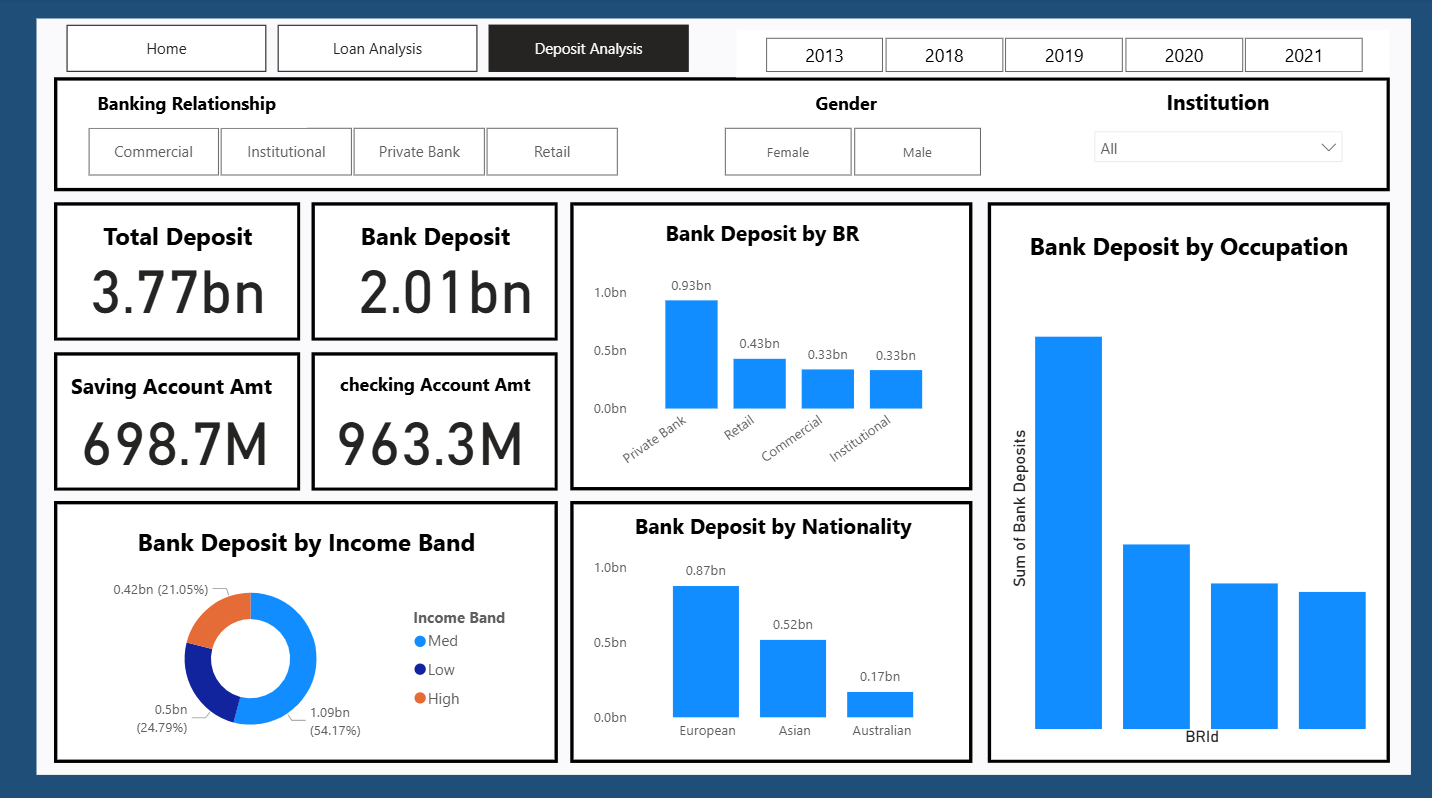

This screenshot's page, from the dashboard's own definition file:
{"tool":"powerbi","page":{"name":"Deposit Analysis","canvas":[1280,720],"ordinal":2},"visuals":[{"type":"shape","box":[32.9,20.6,1224,673.8],"z":0},{"type":"shape","box":[49.4,72.7,1189.7,101.5],"z":1000},{"type":"shape","box":[509.1,450.1,358.1,233.3],"z":2000},{"type":"shape","title":"Total Clients","box":[49.4,317,219.6,123.5],"z":3000},{"type":"shape","title":"Total Clients","box":[49.4,183.9,219.6,123.5],"z":4000},{"type":"shape","title":"Total Clients","box":[278.6,183.9,219.6,123.5],"z":5000},{"type":"shape","title":"Total Clients","box":[278.6,317,219.6,123.5],"z":6000},{"type":"shape","box":[509.1,183.9,358.1,256.6],"z":7000},{"type":"shape","box":[49.4,450.1,448.7,233.3],"z":8000},{"type":"shape","box":[881,183.9,358.1,499.5],"z":9000},{"type":"textbox","box":[64.5,193.5,189.4,42.5],"z":10000},{"type":"textbox","box":[293.7,329.3,189.4,42.5],"z":11000},{"type":"textbox","box":[293.7,193.5,189.4,42.5],"z":12000},{"type":"textbox","box":[118,466.6,311.5,42.5],"z":13000},{"type":"textbox","box":[575,193.5,208.6,52.1],"z":14000},{"type":"textbox","box":[525.6,454.2,328,42.5],"z":15000},{"type":"textbox","box":[904.3,203.1,311.5,42.5],"z":16000},{"type":"textbox","box":[53.5,329.3,200.3,42.5],"z":17000},{"type":"slicer","fields":{"Values":["banking_details.Year of Joining"]},"box":[657.3,30.2,581.8,42.5],"z":18000},{"type":"card","fields":{"Values":["banking_details.Total Deposit"]},"box":[74.1,236,170.2,61.7],"z":19000},{"type":"card","fields":{"Values":["Sum(banking_details.Checking Accounts)"]},"box":[293.7,371.9,179.8,61.7],"z":20000},{"type":"card","fields":{"Values":["Sum(banking_details.Saving Accounts)"]},"box":[60.4,371.9,193.5,61.7],"z":21000},{"type":"card","fields":{"Values":["Sum(banking_details.Bank Deposits)"]},"box":[312.9,236,170.2,61.7],"z":22000},{"type":"donutChart","fields":{"Category":["banking_details.Income Band"],"Y":["Sum(banking_details.Bank Deposits)"]},"box":[74.1,509.1,399.3,163.3],"z":23000},{"type":"columnChart","fields":{"Category":["banking_details.BRId"],"Y":["Sum(banking_details.Bank Deposits)"]},"box":[524.2,236,329.3,197.6],"z":24000},{"type":"columnChart","fields":{"Category":["banking_details.Nationality"],"Y":["Sum(banking_details.Bank Deposits)"]},"box":[524.2,488.5,329.3,183.9],"z":25000},{"type":"clusteredColumnChart","fields":{"Y":["Sum(banking_details.Bank Deposits)"],"Category":["banking_details.BRId"]},"box":[896.1,245.6,329.3,426.8],"z":26000},{"type":"slicer","fields":{"Values":["banking_details.BRId"]},"box":[53.5,109.8,521.4,56.3],"z":27000},{"type":"slicer","fields":{"Values":["banking_details.GenderId"]},"box":[620.2,109.8,278.6,56.3],"z":28000},{"type":"slicer","fields":{"Values":["banking_details.IAId"]},"box":[964.7,109.8,241.5,56.3],"z":29000},{"type":"textbox","box":[60.4,79.6,214.1,38.4],"z":30000},{"type":"textbox","box":[655.9,79.6,197.6,31.6],"z":31000},{"type":"textbox","box":[978.4,76.8,214.1,42.5],"z":32000},{"type":"pageNavigator","box":[60.4,26.1,555.7,42.5],"z":33000}]}

Visuals, with their boxes in screenshot pixels (x1, y1, x2, y2), scaled from the page's 1280x720 canvas onto the 1432x798 screenshot:
shape: box=[37, 23, 1406, 770]
shape: box=[55, 81, 1386, 193]
shape: box=[570, 499, 970, 757]
"Total Clients" shape: box=[55, 351, 301, 488]
"Total Clients" shape: box=[55, 204, 301, 341]
"Total Clients" shape: box=[312, 204, 557, 341]
"Total Clients" shape: box=[312, 351, 557, 488]
shape: box=[570, 204, 970, 488]
shape: box=[55, 499, 557, 757]
shape: box=[986, 204, 1386, 757]
textbox: box=[72, 214, 284, 262]
textbox: box=[329, 365, 540, 412]
textbox: box=[329, 214, 540, 262]
textbox: box=[132, 517, 481, 564]
textbox: box=[643, 214, 877, 272]
textbox: box=[588, 503, 955, 551]
textbox: box=[1012, 225, 1360, 272]
textbox: box=[60, 365, 284, 412]
slicer - banking_details.Year of Joining: box=[735, 33, 1386, 81]
card - banking_details.Total Deposit: box=[83, 262, 273, 330]
card - Sum(banking_details.Checking Accounts): box=[329, 412, 530, 481]
card - Sum(banking_details.Saving Accounts): box=[68, 412, 284, 481]
card - Sum(banking_details.Bank Deposits): box=[350, 262, 540, 330]
donutChart - banking_details.Income Band x Sum(banking_details.Bank Deposits): box=[83, 564, 530, 745]
columnChart - banking_details.BRId x Sum(banking_details.Bank Deposits): box=[586, 262, 955, 481]
columnChart - banking_details.Nationality x Sum(banking_details.Bank Deposits): box=[586, 541, 955, 745]
clusteredColumnChart - Sum(banking_details.Bank Deposits) x banking_details.BRId: box=[1003, 272, 1371, 745]
slicer - banking_details.BRId: box=[60, 122, 643, 184]
slicer - banking_details.GenderId: box=[694, 122, 1006, 184]
slicer - banking_details.IAId: box=[1079, 122, 1349, 184]
textbox: box=[68, 88, 307, 131]
textbox: box=[734, 88, 955, 123]
textbox: box=[1095, 85, 1334, 132]
pageNavigator: box=[68, 29, 689, 76]
